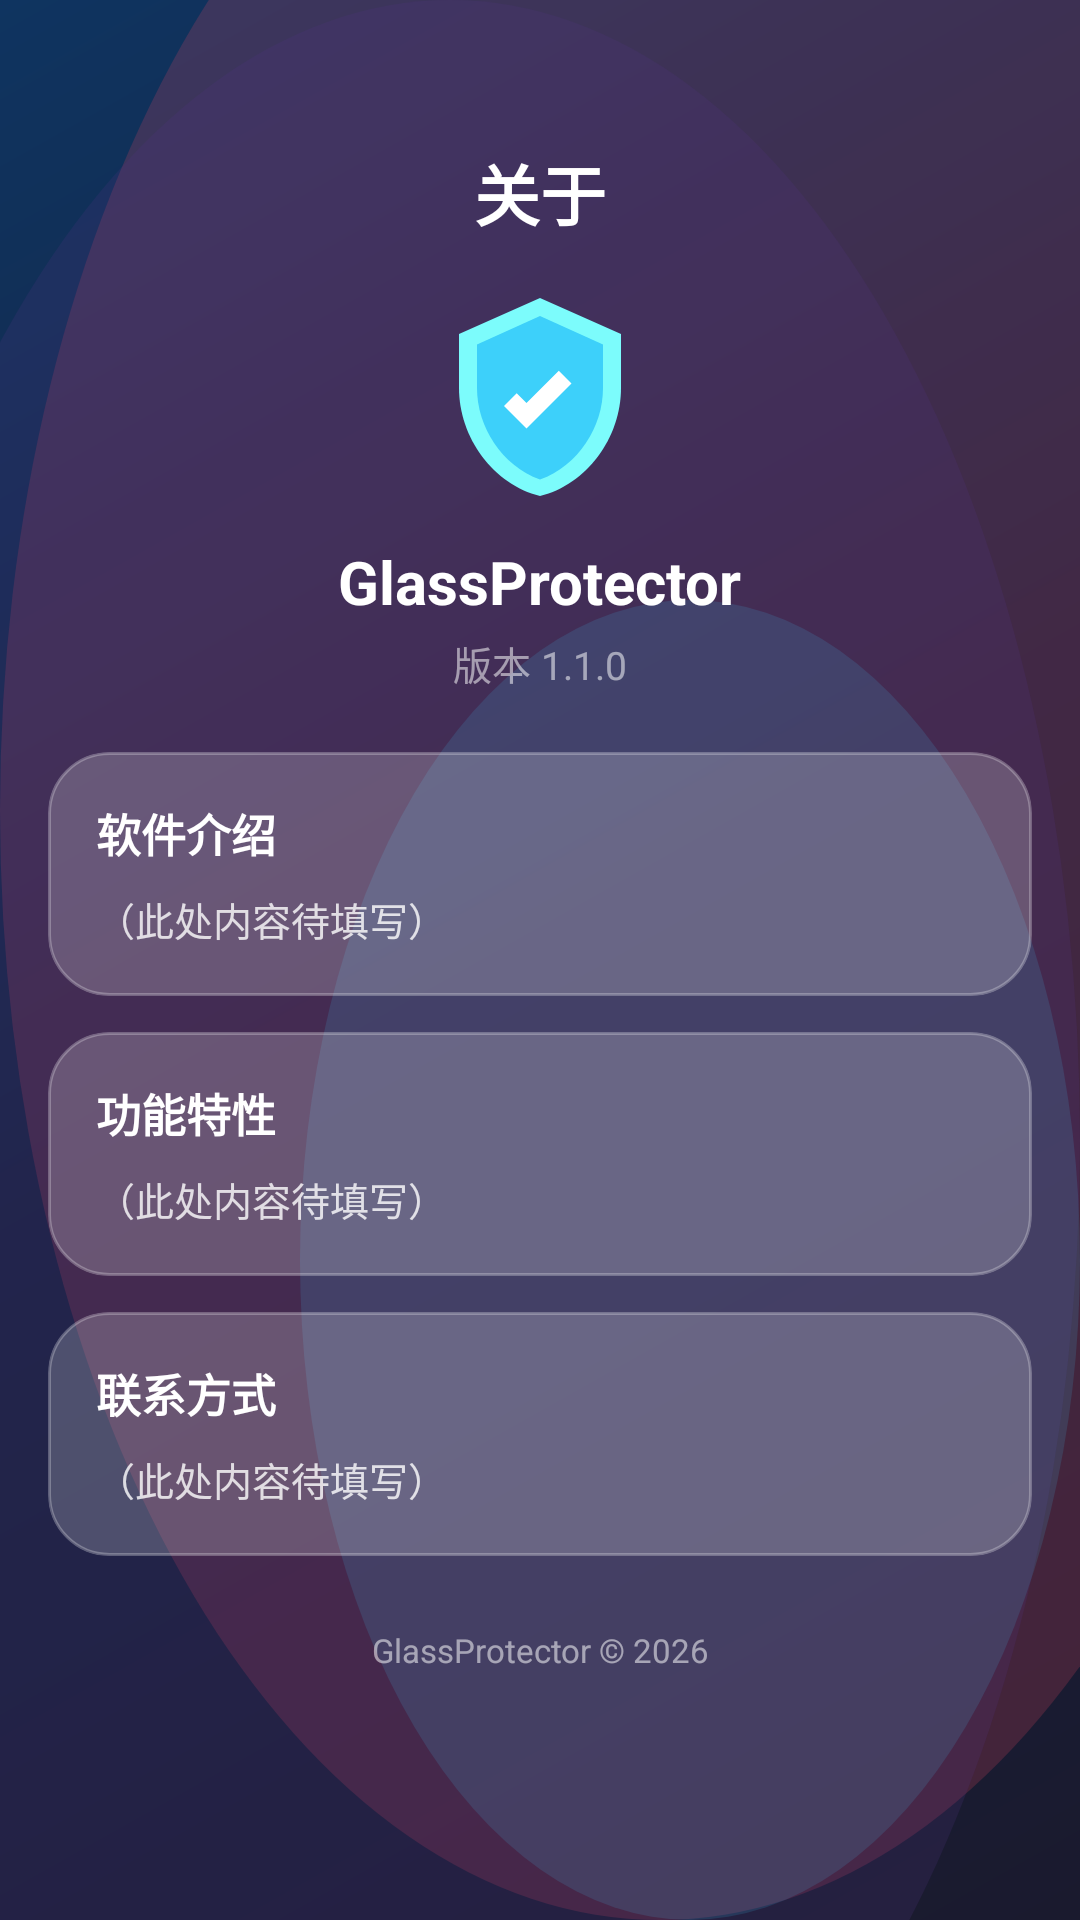

Icon click points for this 1080 × 1920 phone screenshot, format point (x, y):
shield: point (540, 397)
